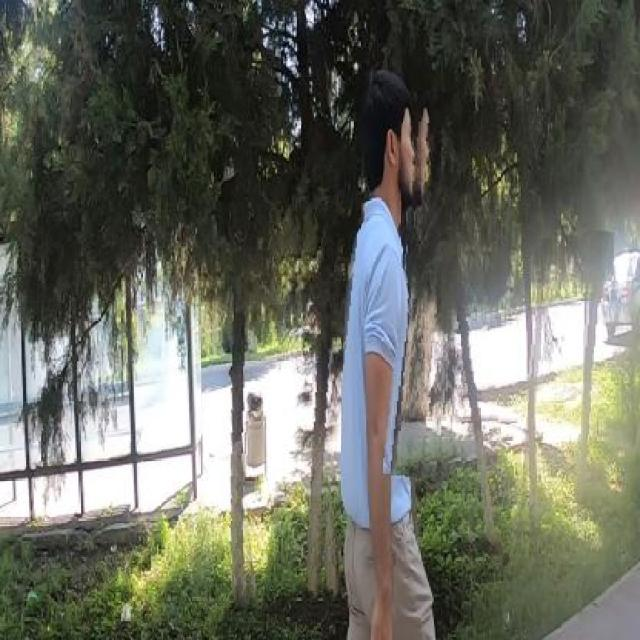tree trunk: (273, 188, 352, 626), (392, 90, 466, 478), (196, 248, 267, 638), (441, 194, 507, 584), (516, 239, 544, 567), (577, 230, 609, 504)
